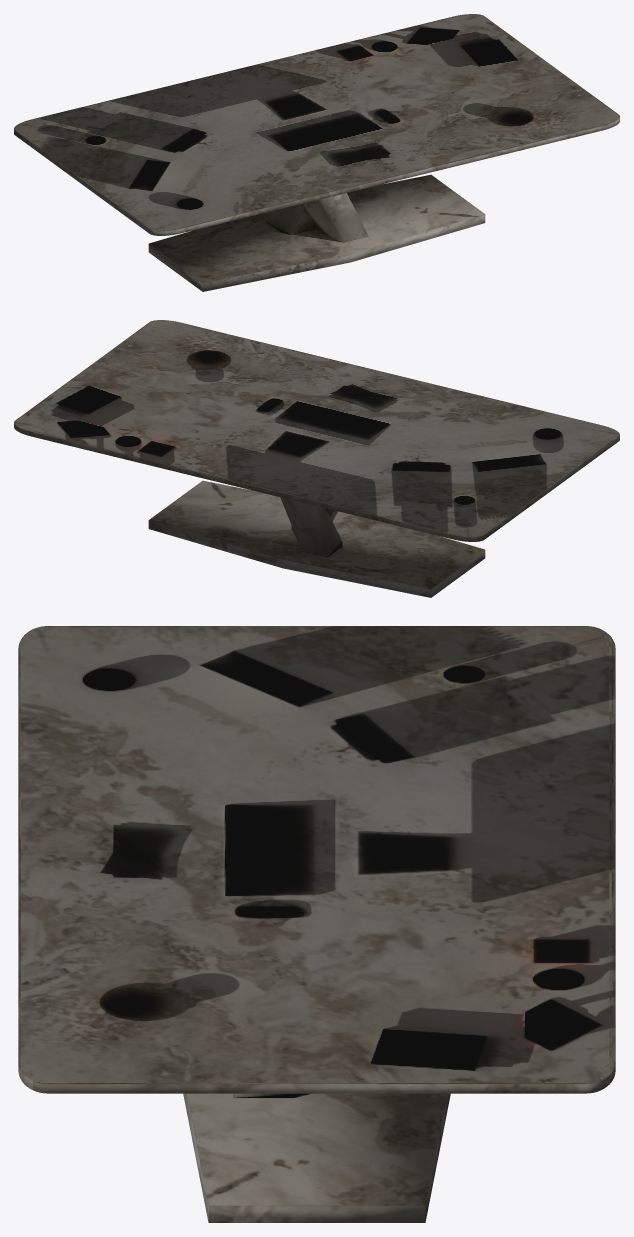
Rendered from Table.glb.
3 views of the same model, one above another, from view 1: azimuth 30°, elevation 25°; view 2: azimuth 150°, elevation 25°; view 3: azimuth 270°, elevation 25° (orthographic). The views are drawn at different scales.
Visible parts, largest first — view 1: DiningTable; view 2: DiningTable; view 3: DiningTable.
Part boxes in pixels (x1,y1,x2,y2): DiningTable: [14, 14, 619, 291]; DiningTable: [14, 320, 619, 597]; DiningTable: [18, 626, 615, 1222].
Bounding box in the file's own units: 17.6 × 4.13 × 9.7.
Materials: 1 (1 with a texture image).
